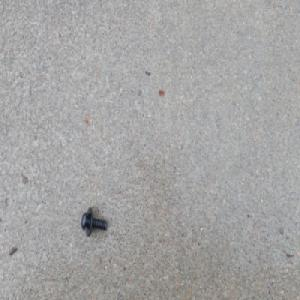BoltWasher: (80, 205, 107, 236)
